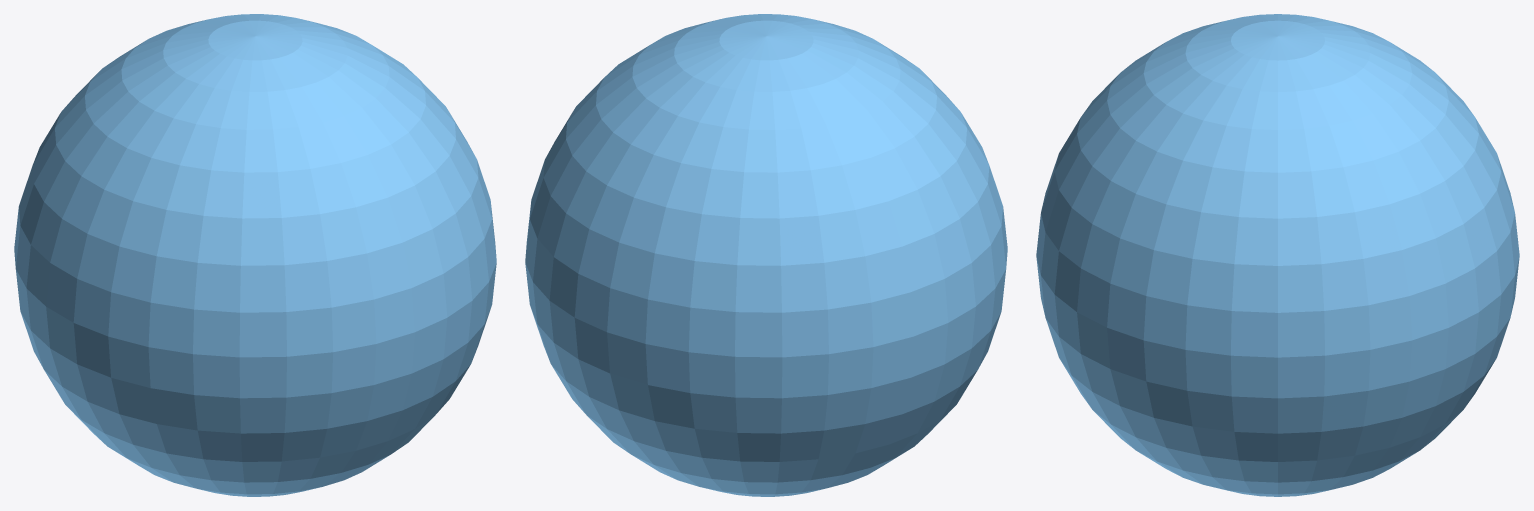
The model's file is test-zone2.glb.
The picture shows the model from 3 angles, left to right: view 1: azimuth 30°, elevation 25°; view 2: azimuth 150°, elevation 25°; view 3: azimuth 270°, elevation 25°; orthographic projection.
Visible parts, largest first — view 1: SkyBox; view 2: SkyBox; view 3: SkyBox.
Part boxes in pixels (x1=…): SkyBox: x1=14, y1=14, x2=496, y2=496; SkyBox: x1=525, y1=14, x2=1007, y2=496; SkyBox: x1=1036, y1=14, x2=1519, y2=496.
Bounding box in the file's own units: 600 × 600 × 600.
14 materials, 13 textured.
